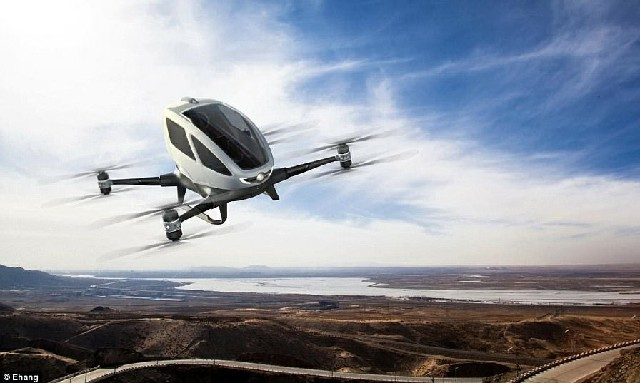maybay_khongnguoilai: (65, 94, 394, 245)
